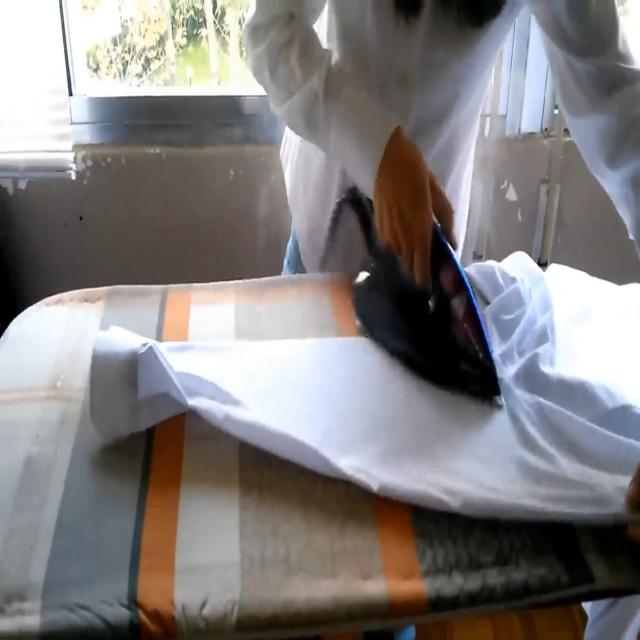Shirt: (88, 250, 640, 640), (240, 0, 639, 277)
